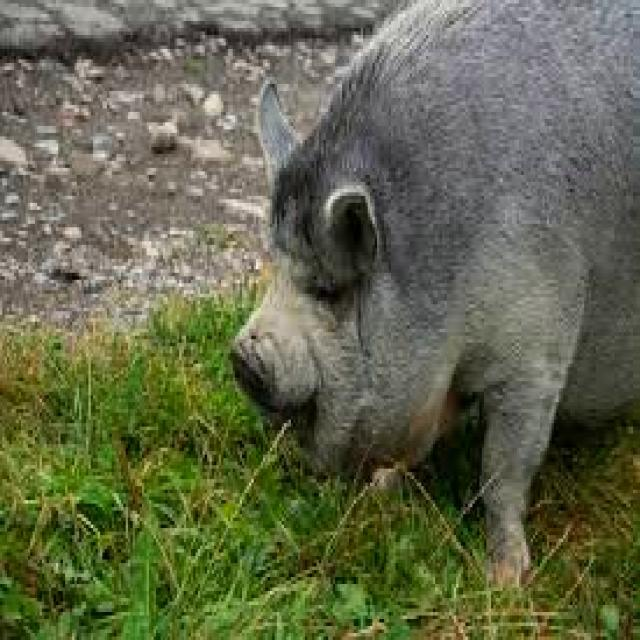pig: (233, 0, 638, 584)
